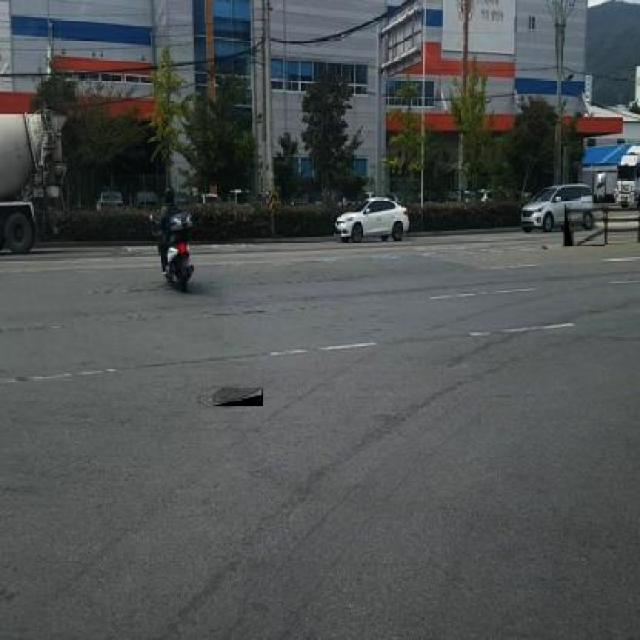Manhole: (212, 388, 263, 406)
